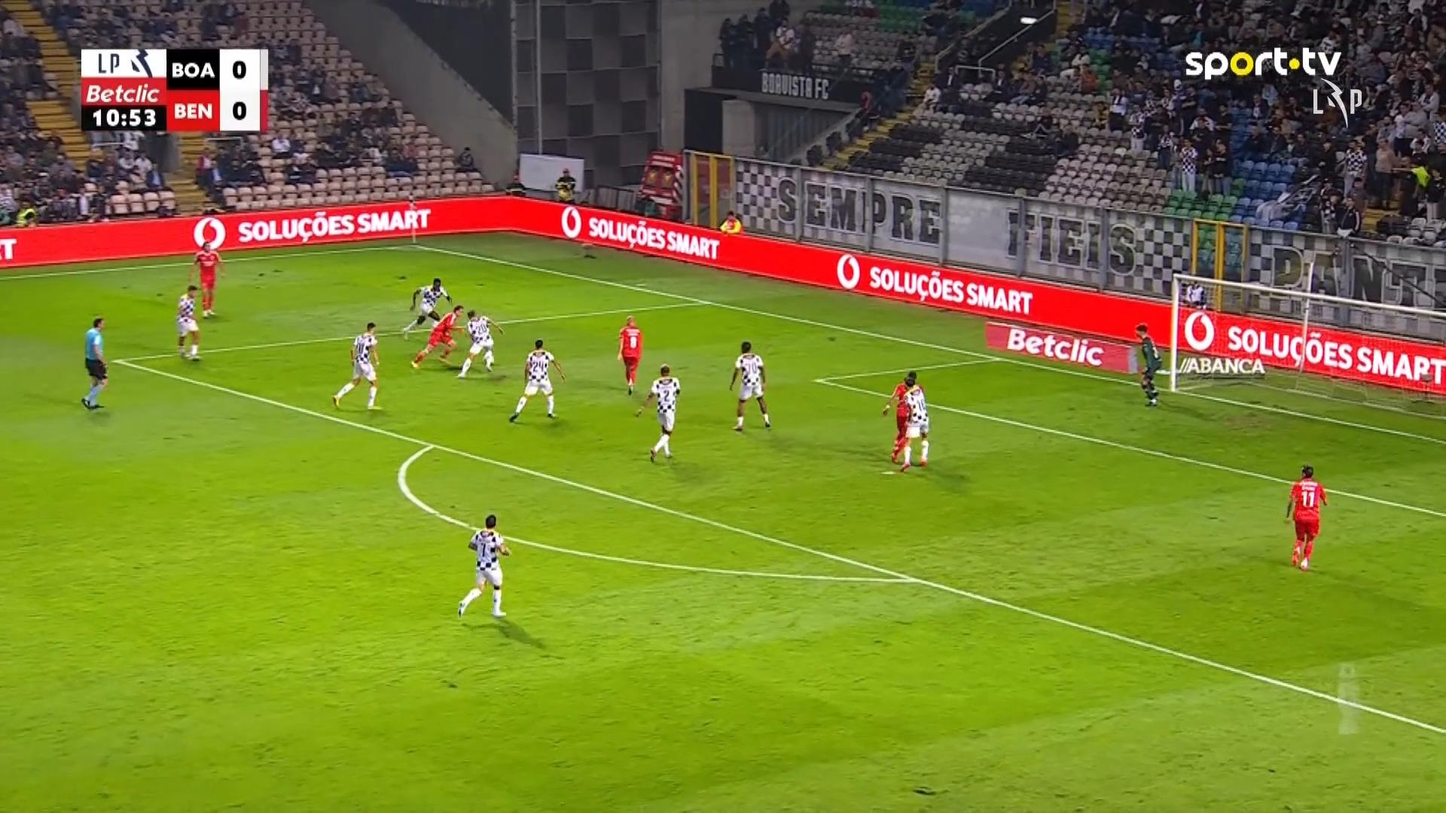ball: (483, 337, 494, 349)
goalkeeper: (1133, 322, 1163, 406)
player: (456, 513, 510, 618), (508, 338, 566, 422), (1283, 464, 1328, 570), (633, 364, 681, 463), (331, 321, 382, 410), (728, 340, 770, 431), (410, 304, 464, 368), (456, 308, 504, 378), (881, 371, 916, 464), (894, 382, 930, 470), (401, 276, 451, 338), (192, 240, 223, 318), (616, 315, 642, 395), (175, 284, 202, 361)
referee: (81, 316, 109, 410)
